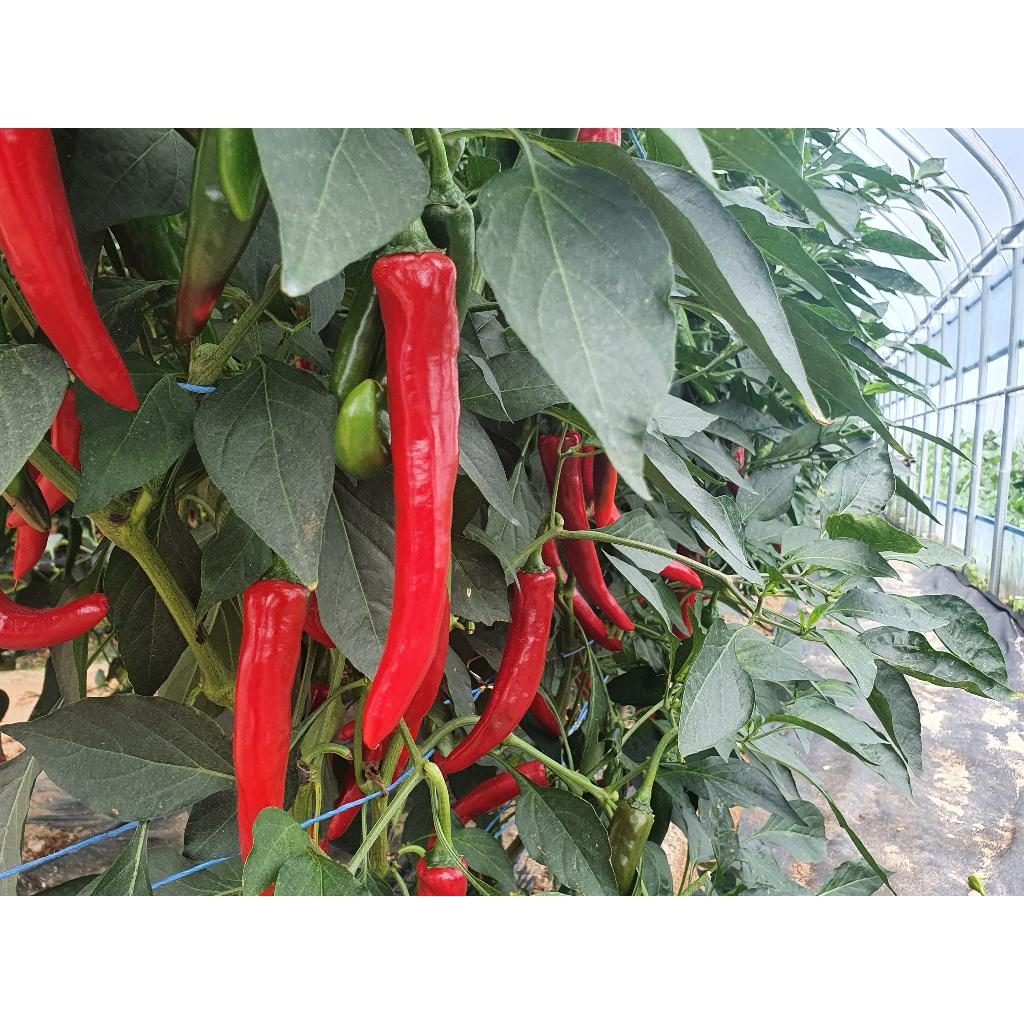chili: (362, 250, 460, 748), (0, 128, 138, 410), (436, 568, 556, 774), (232, 580, 310, 860), (0, 590, 108, 650), (562, 540, 634, 630), (556, 456, 590, 530), (538, 434, 560, 490), (562, 430, 580, 450)
